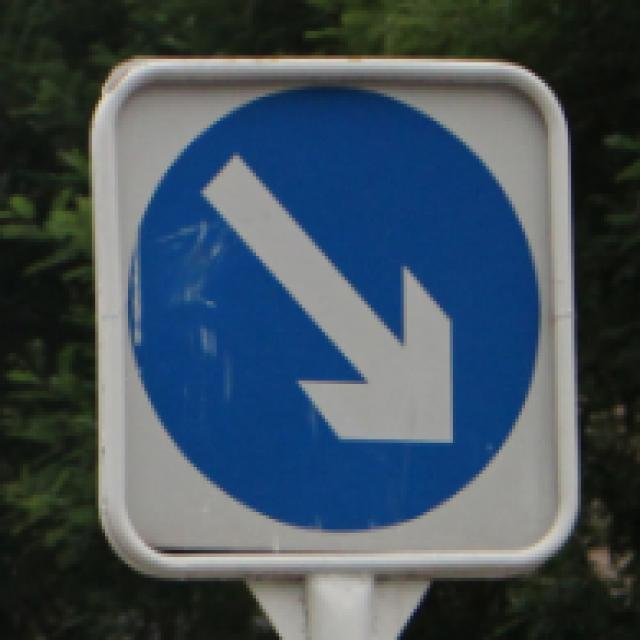Right: (113, 67, 552, 555)
